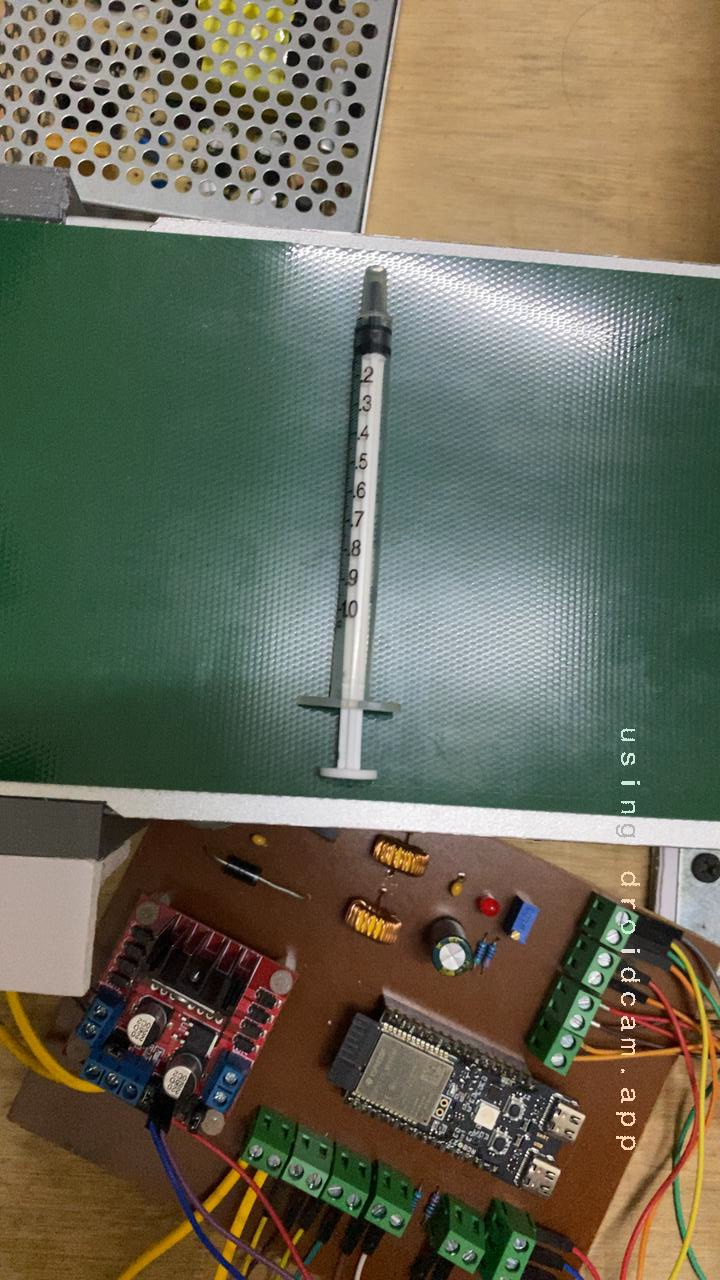syringe: (226, 263, 492, 812)
